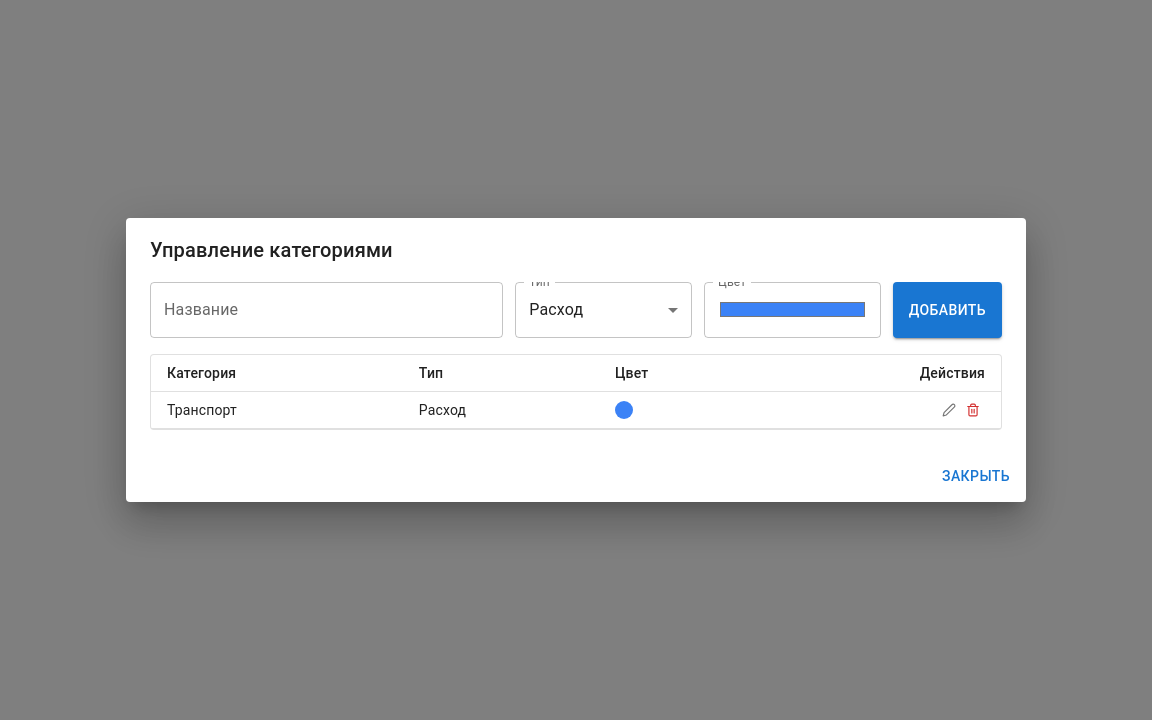
Test: CategoryManager › prevents duplicate category for same type
The image size is (1152, 720).
Type "транспорт" into the field labelled "Название" at {"x": 327, "y": 310}, box [150, 282, 503, 338]
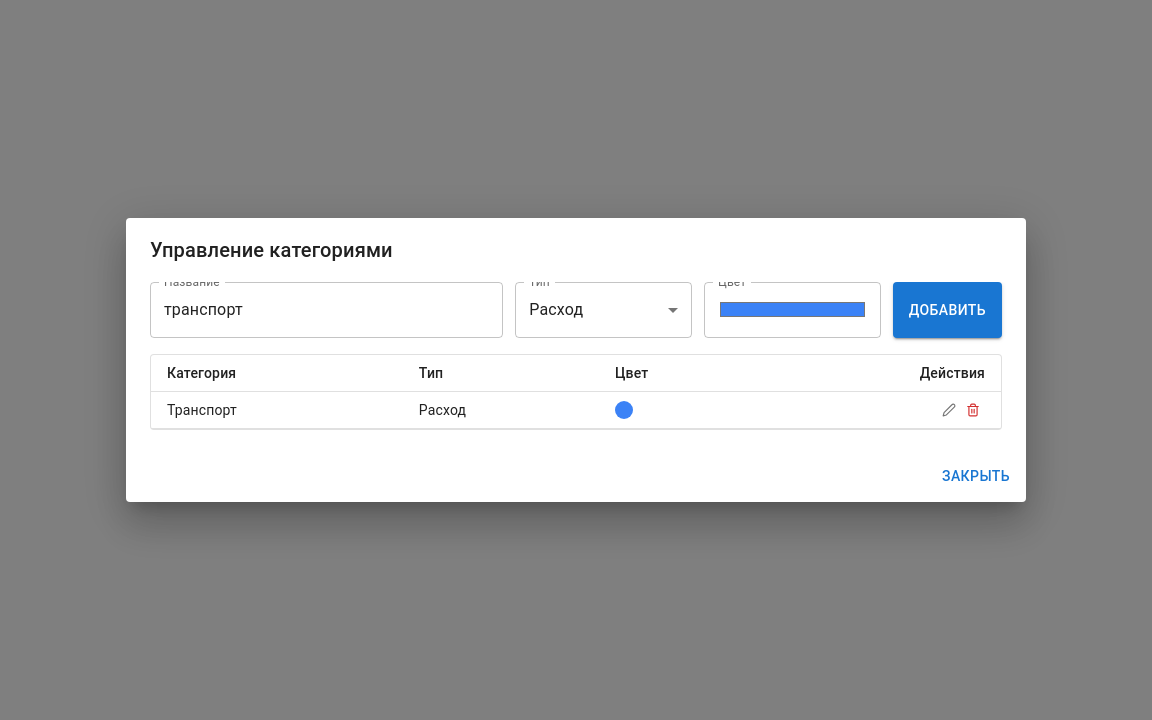
Click the button "Добавить" at {"x": 947, "y": 310}, box [893, 282, 1002, 338]
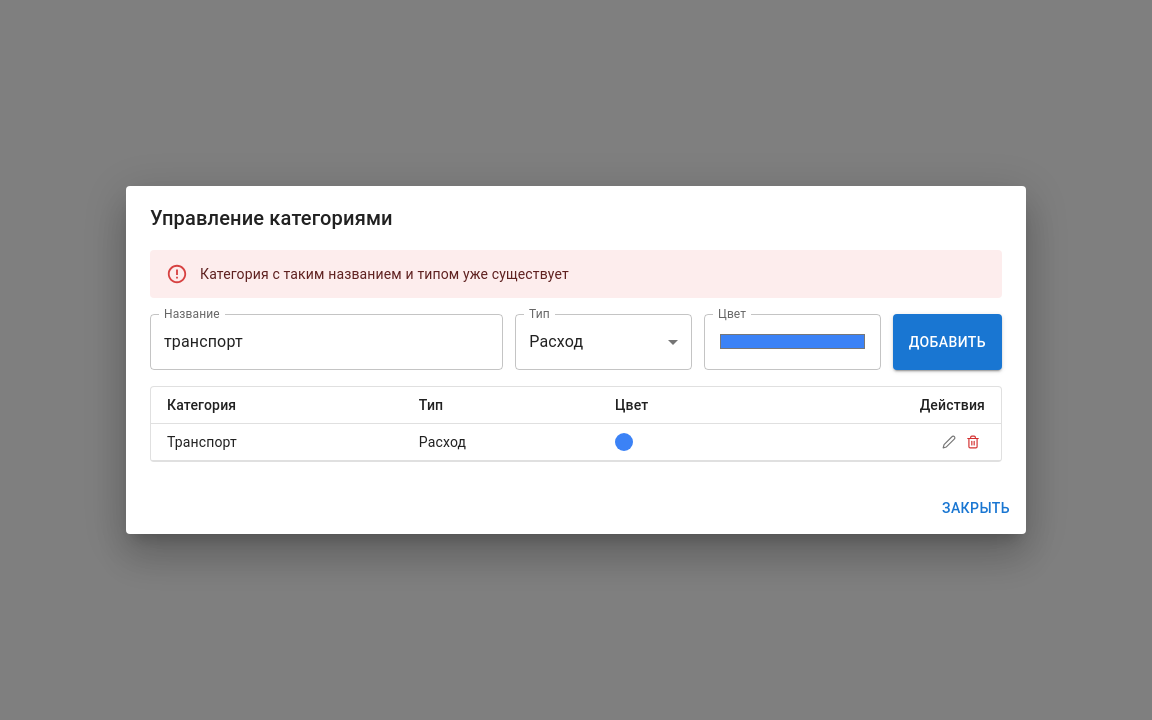
Expected: the text "Категория с таким названием и типом уже существует" is shown, [200, 266, 569, 282]
